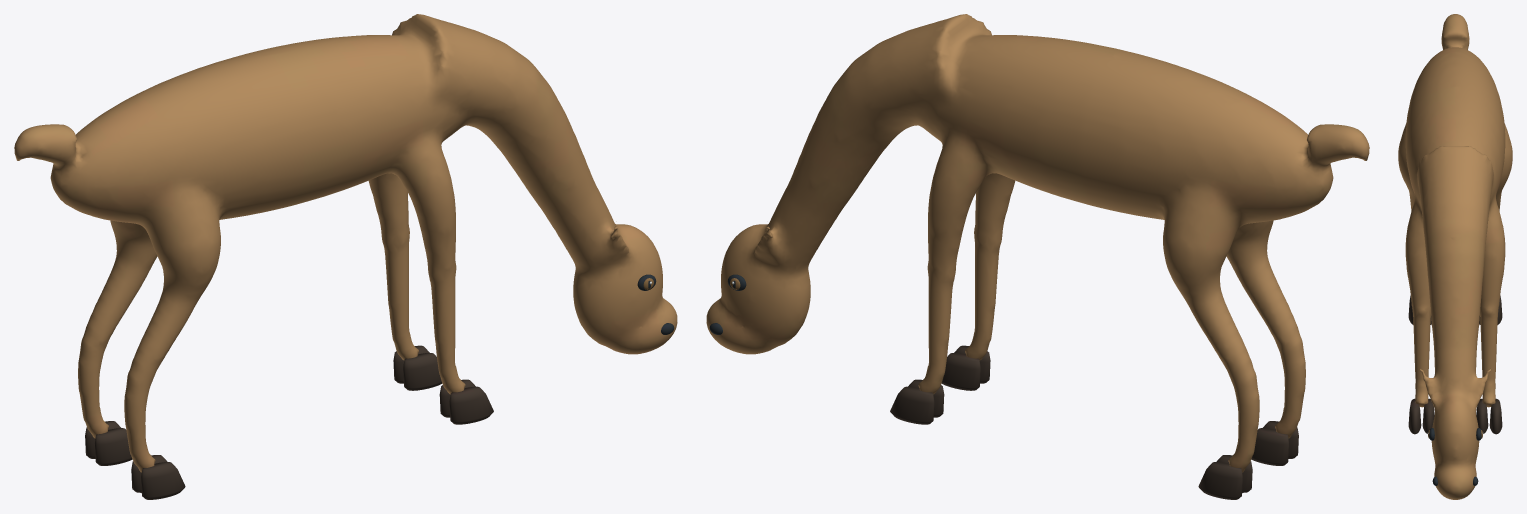
The model's file is nature-deer-grazing.glb.
The picture shows the model from 3 angles, left to right: view 1: azimuth 30°, elevation 25°; view 2: azimuth 150°, elevation 25°; view 3: azimuth 270°, elevation 25°; orthographic projection. The views are drawn at different scales.
Parts seen in each view (by area): view 1: Continuous anatomical skin, Cloven tapered hoof, Cloven tapered hoof.002, Cloven tapered hoof.004, Cloven tapered hoof.006; view 2: Continuous anatomical skin, Cloven tapered hoof.005, Cloven tapered hoof.007, Cloven tapered hoof.001, Cloven tapered hoof.003; view 3: Continuous anatomical skin, Cloven tapered hoof, Cloven tapered hoof.005, Cloven tapered hoof.001, Cloven tapered hoof.004.
Part boxes in pixels (x1,y1,x2,y2): Continuous anatomical skin: [14, 14, 677, 472]; Cloven tapered hoof: [449, 386, 493, 424]; Cloven tapered hoof.002: [141, 462, 185, 499]; Cloven tapered hoof.004: [403, 353, 442, 390]; Cloven tapered hoof.006: [94, 428, 132, 465]; Continuous anatomical skin: [706, 14, 1369, 472]; Cloven tapered hoof.005: [890, 386, 934, 424]; Cloven tapered hoof.007: [1198, 462, 1242, 499]; Cloven tapered hoof.001: [941, 353, 980, 390]; Cloven tapered hoof.003: [1251, 428, 1289, 465]; Continuous anatomical skin: [1398, 14, 1512, 499]; Cloven tapered hoof: [1408, 398, 1421, 434]; Cloven tapered hoof.005: [1489, 398, 1502, 434]; Cloven tapered hoof.001: [1422, 398, 1434, 433]; Cloven tapered hoof.004: [1476, 398, 1488, 433].
Bounding box in the file's own units: 1.82 × 1.02 × 0.378.
5 materials, 5 textured.
